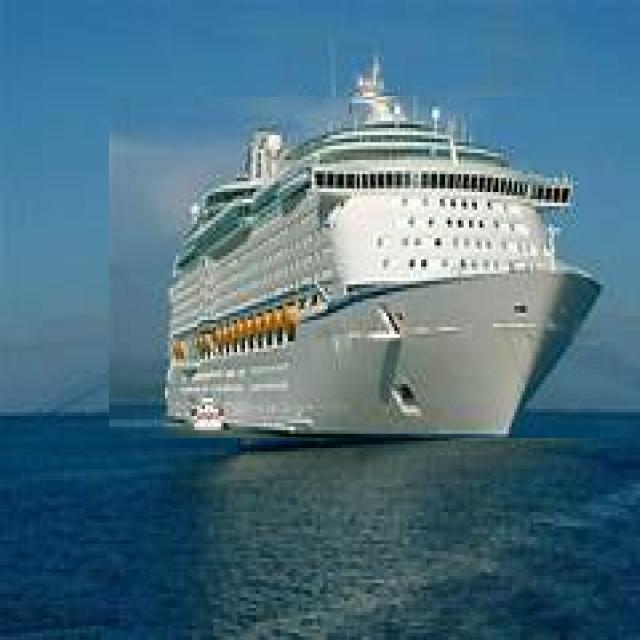PassengerShip: (109, 97, 640, 438)
